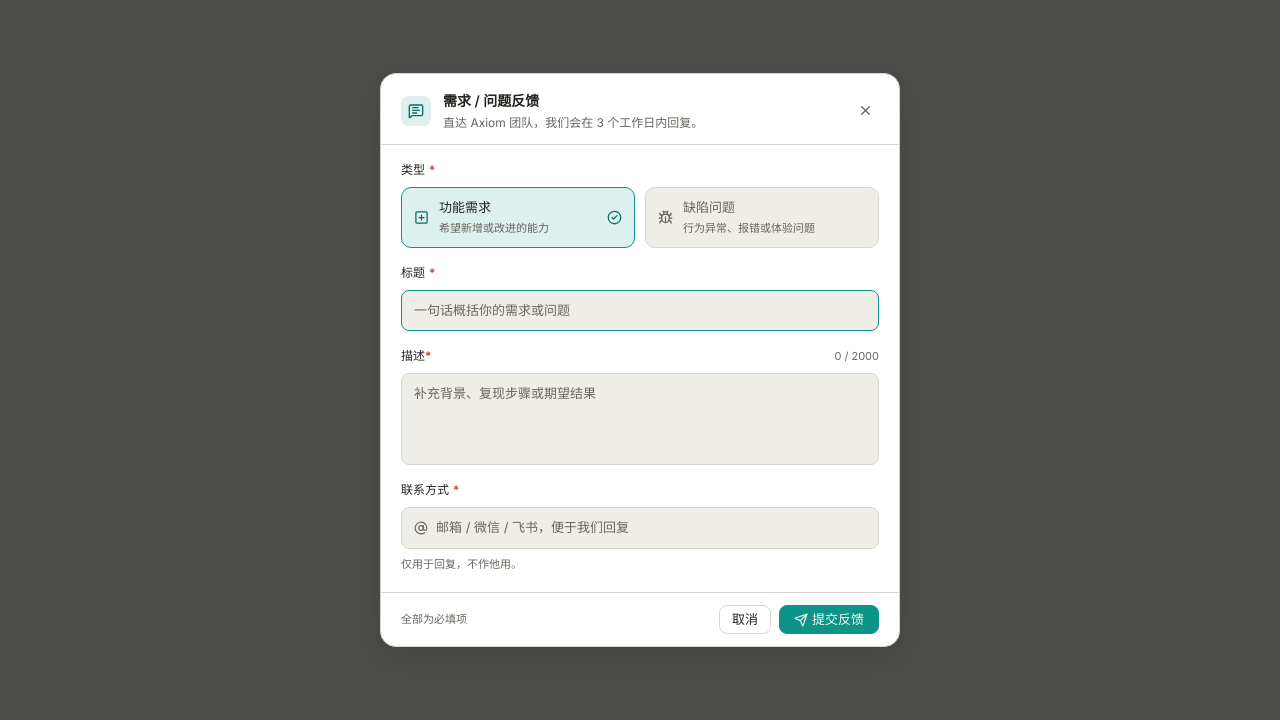
Test case: FeedbackDialog (RTL) › 提交失败：横幅展示原因、主按钮变「重试」，重试成功后进入成功态
Type "t" into the field with placeholder "一句话概括你的需求或问题" at (640, 310), box [401,290,879,331]
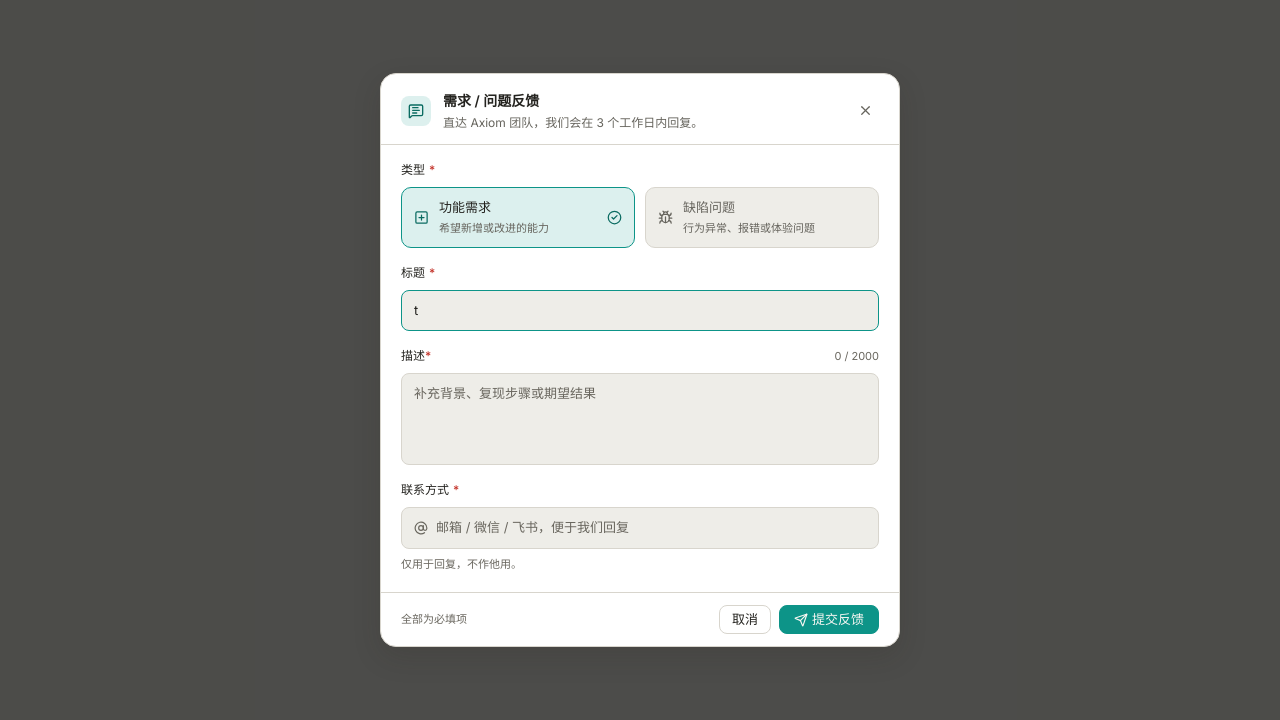
Type "d" into the text box with placeholder "补充背景、复现步骤或期望结果" at (640, 419), box [401,373,879,465]
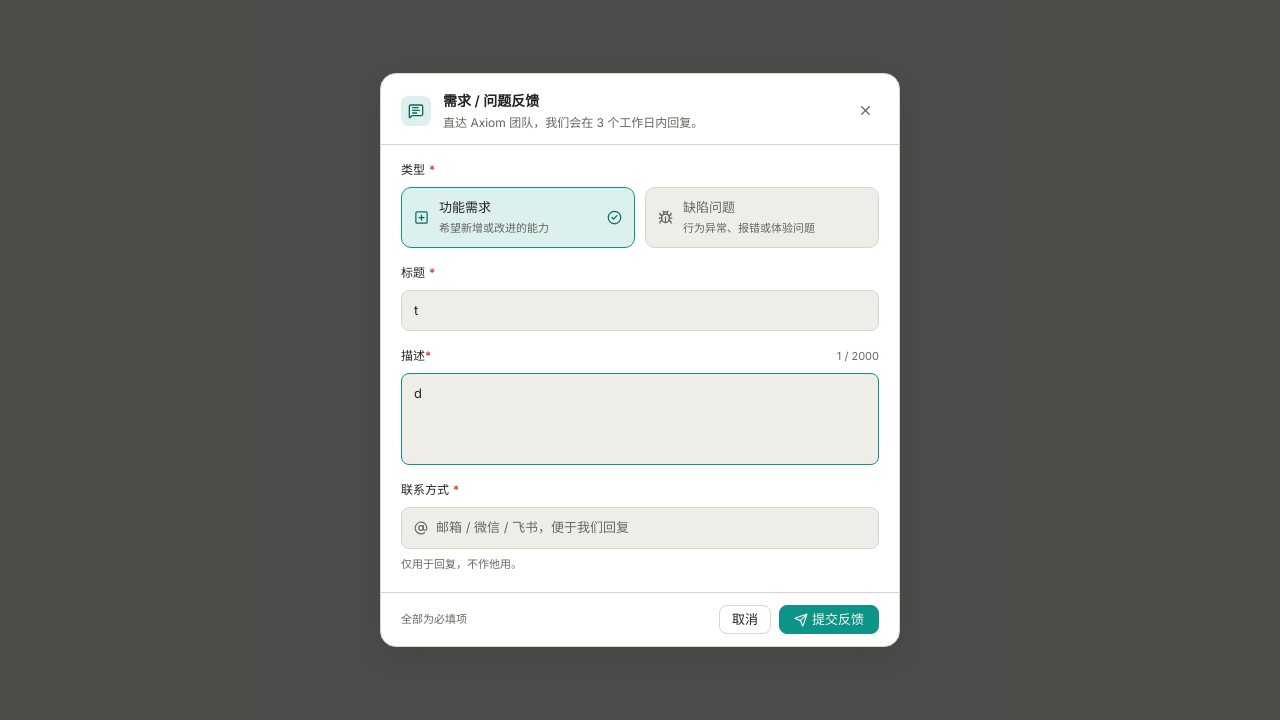
Type "c" into the field with placeholder "邮箱 / 微信 / 飞书，便于我们回复" at (651, 528), box [436,518,866,538]
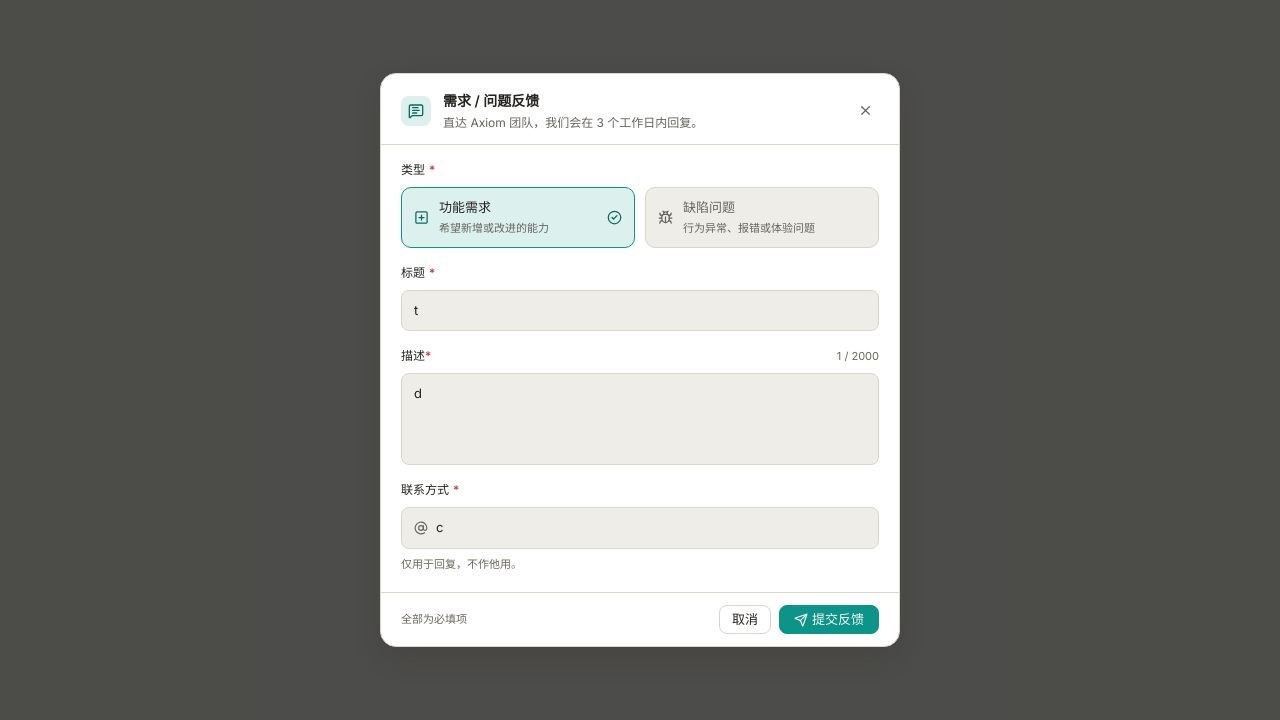
Click the button "提交反馈" at (829, 620), box [779,605,879,634]
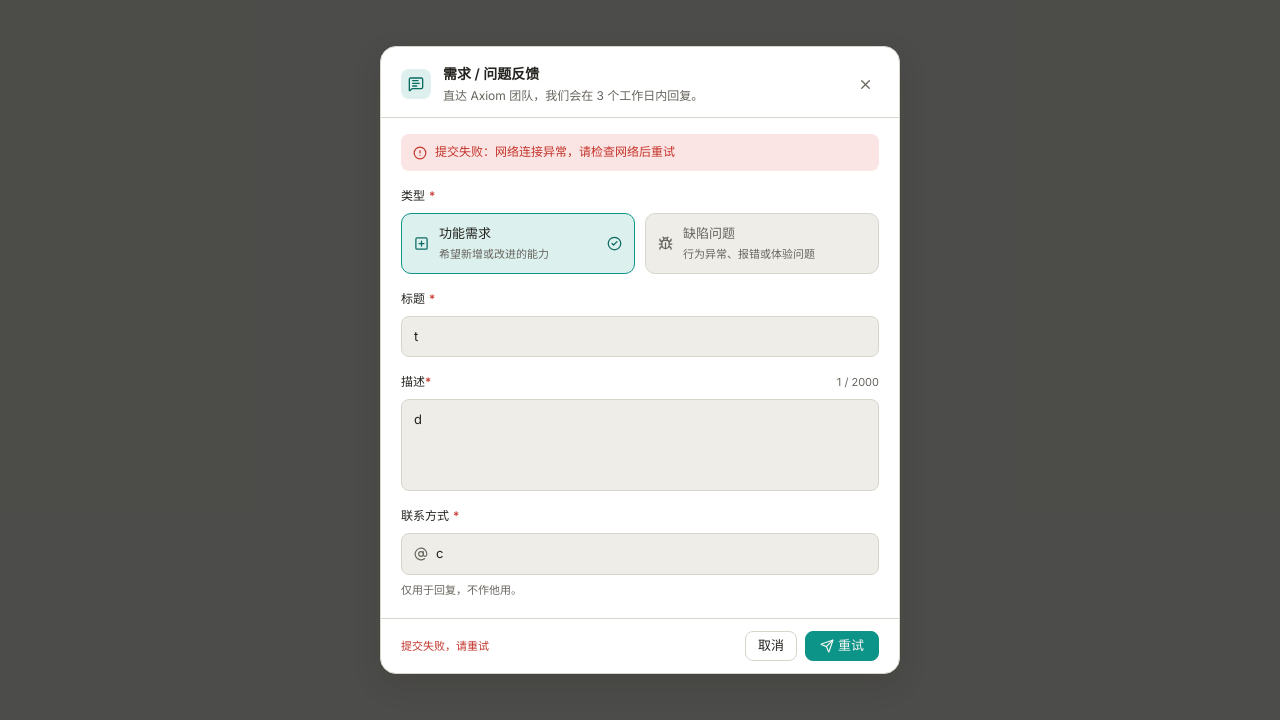
Check: the message reads "提交失败：网络连接异常，请检查网络后重试", box [435,144,675,159]
Check: the text "提交失败，请重试" is shown, box [401,638,489,654]
Click the button "重试" at (842, 646), box [805,631,879,661]
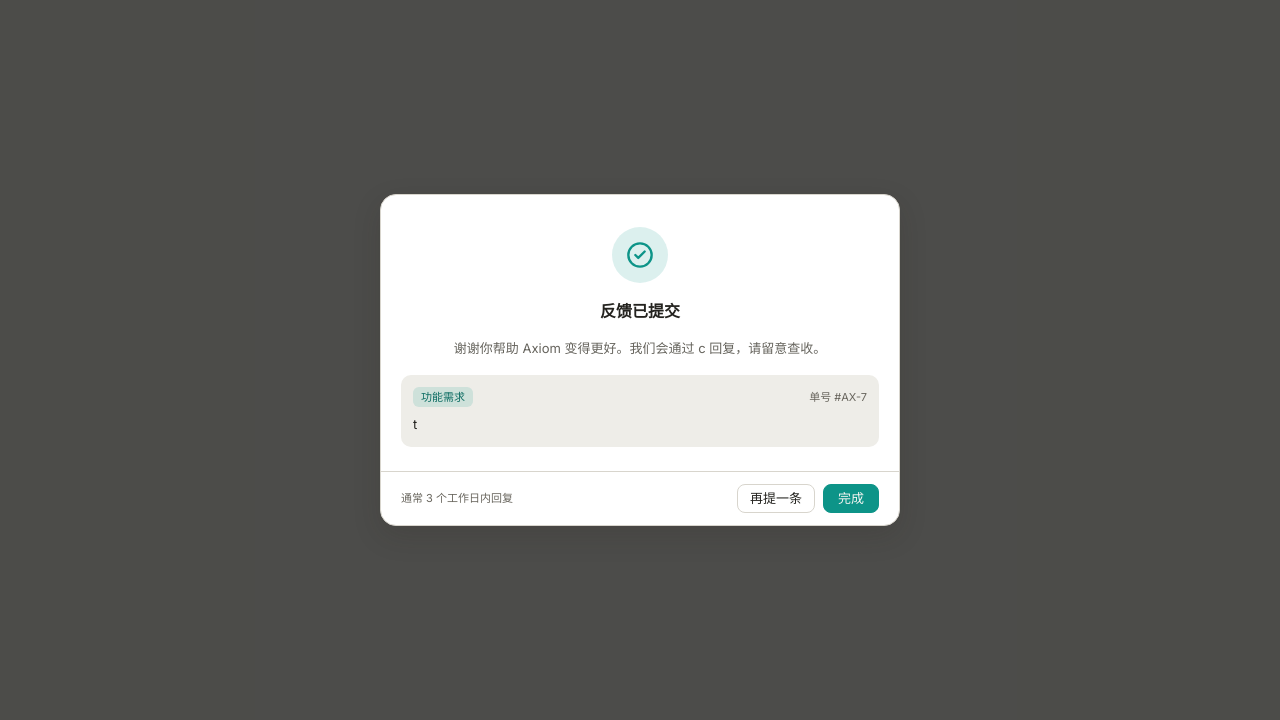
Check: the text "单号 #AX-7" is shown, box [809,388,867,405]
